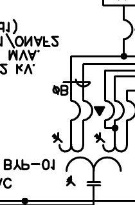115_cvt_3p: (51, 131, 128, 187)
